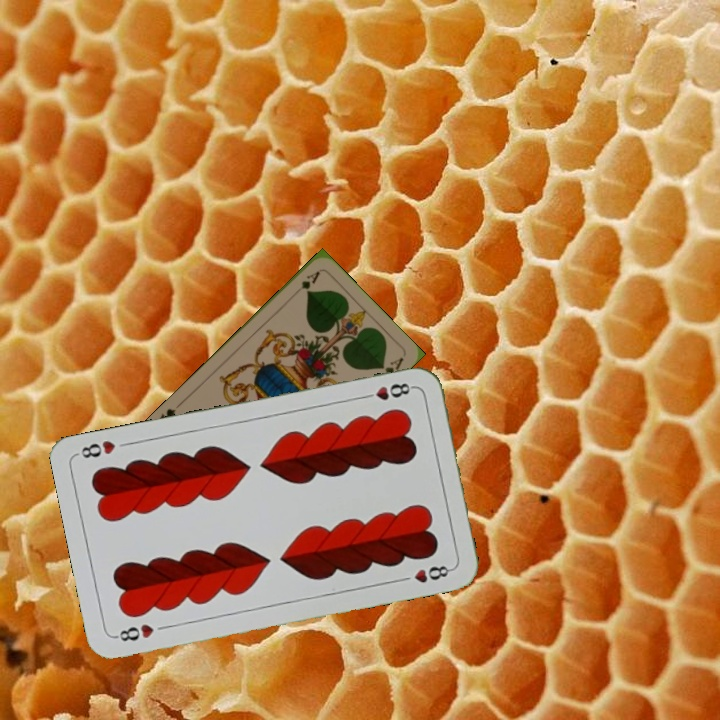GA: (289, 267, 323, 297)
H8: (358, 379, 417, 403), (111, 620, 157, 644)
